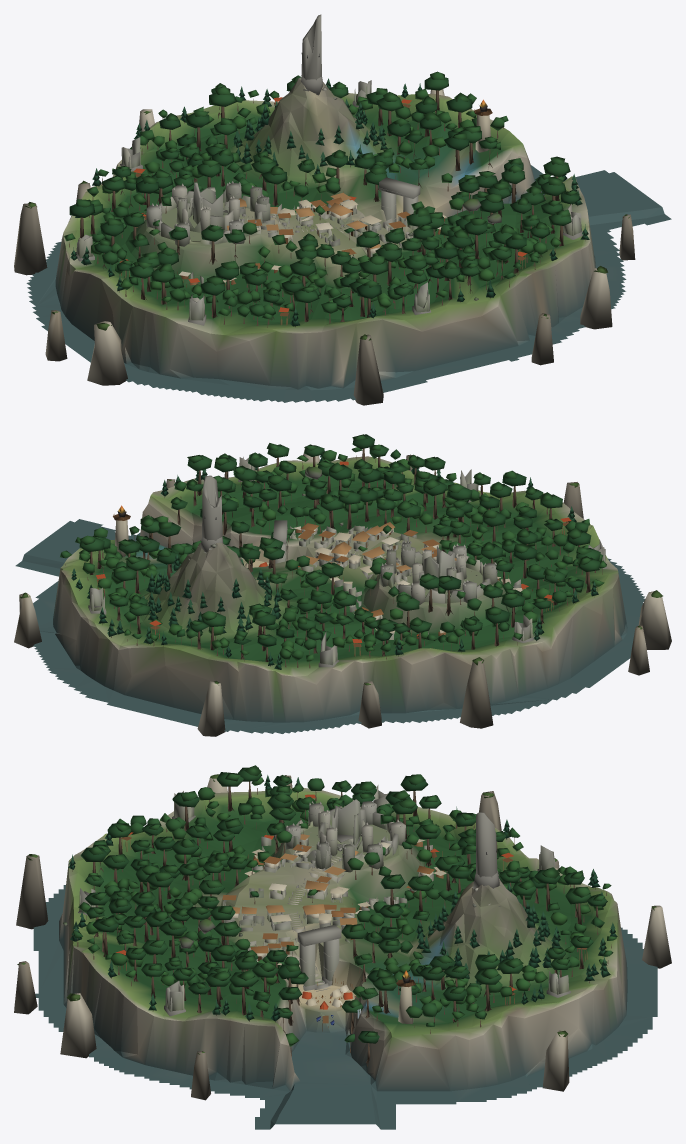
3 views of the same model, one above another, from view 1: azimuth 30°, elevation 25°; view 2: azimuth 150°, elevation 25°; view 3: azimuth 270°, elevation 25° (orthographic). The views are drawn at different scales.
Parts seen in each view (by area): view 1: BASE, VILLE_2, VILLE_3; view 2: BASE, VILLE_2, VILLE_3, VILLE_4; view 3: BASE, VILLE_2, VILLE_3, VILLE_4.
Boxes of the visible parts, x1,y1,x2,y2 form: BASE: (14, 14, 671, 405); VILLE_2: (119, 97, 527, 325); VILLE_3: (133, 198, 311, 287); BASE: (14, 434, 671, 736); VILLE_2: (96, 461, 571, 656); VILLE_3: (330, 539, 532, 639); VILLE_4: (113, 505, 130, 557); BASE: (14, 765, 671, 1129); VILLE_2: (116, 794, 587, 1025); VILLE_3: (244, 832, 446, 913); VILLE_4: (396, 970, 415, 1023).
Size of the model in its own units: 73.42 by 21.38 by 65.36.
